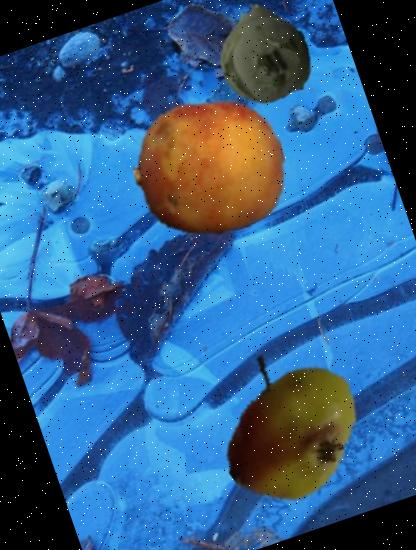Apple: (192, 330, 381, 518)
Kohlrabi: (198, 0, 329, 119)
Peach: (114, 71, 306, 262)
Strawberry: (159, 97, 265, 204)
